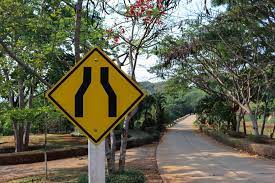narrow-road: (47, 48, 144, 140)
